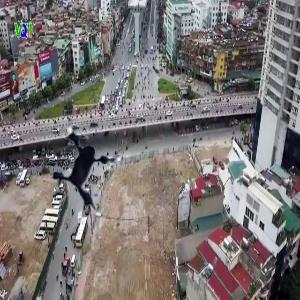drone: (36, 112, 150, 226)
